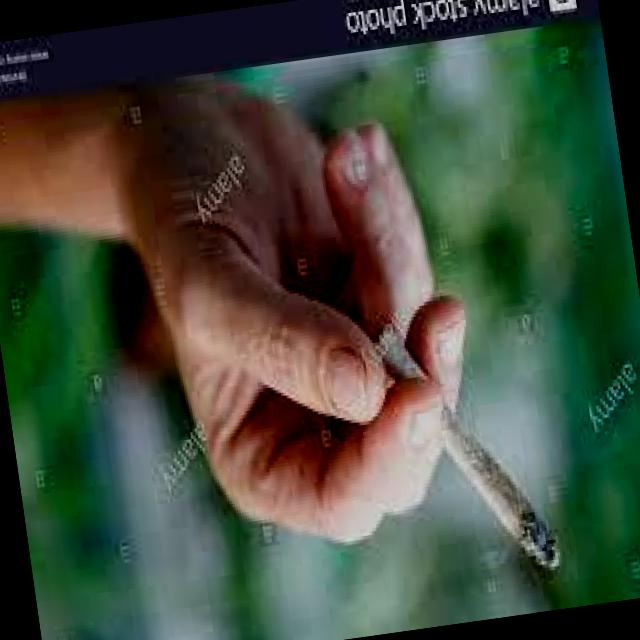cigarette: (372, 302, 563, 596)
